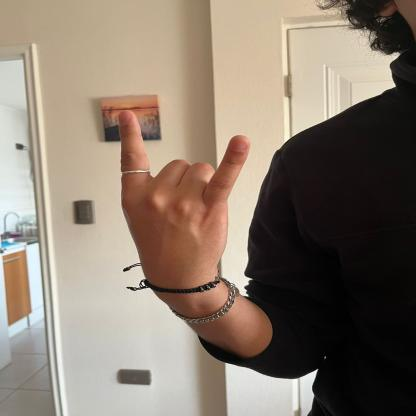U: (112, 105, 255, 282)
